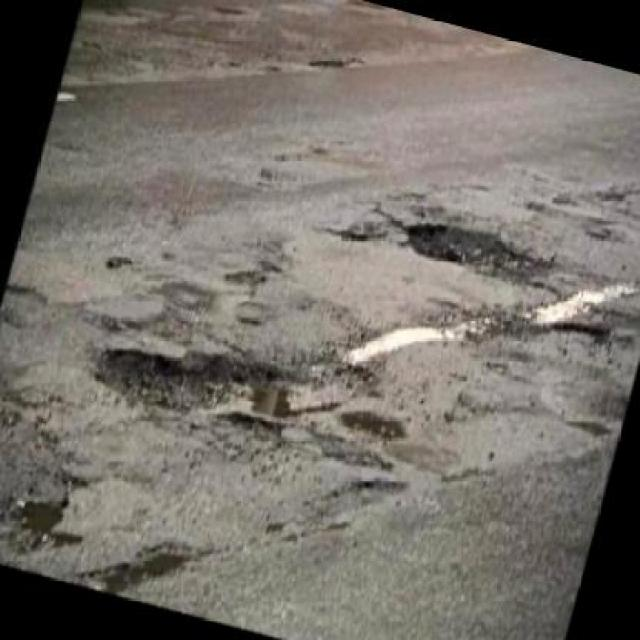pothole1: (85, 286, 388, 469), (395, 206, 560, 297), (71, 515, 200, 610), (0, 476, 94, 576)
